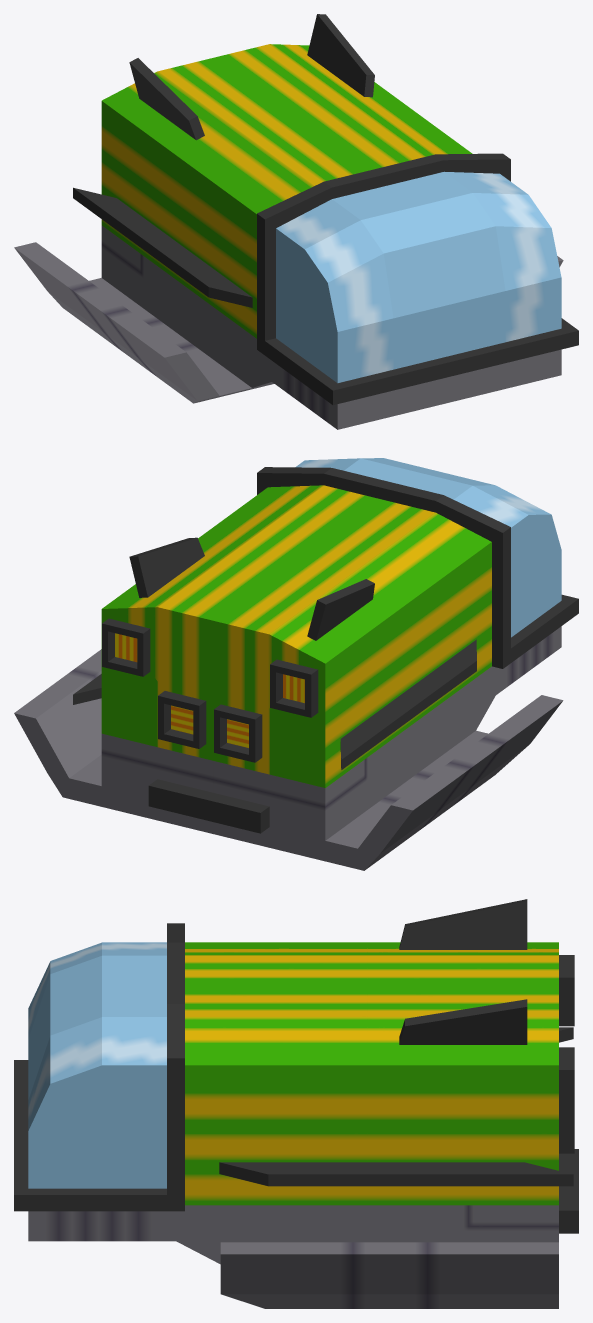
File: Ship03.fbx
3 renders of one model, top to bottom at view 1: azimuth 30°, elevation 25°; view 2: azimuth 150°, elevation 25°; view 3: azimuth 270°, elevation 25°, orthographic. The views are drawn at different scales.
Visible parts, largest first — view 1: Ship03; view 2: Ship03; view 3: Ship03.
Boxes of the visible parts, x1,y1,x2,y2 form: Ship03: [14, 14, 578, 429]; Ship03: [14, 458, 578, 870]; Ship03: [14, 899, 578, 1308].
Bounding box in the file's own units: 356 × 218 × 389.
Materials: 1 (1 with a texture image).
